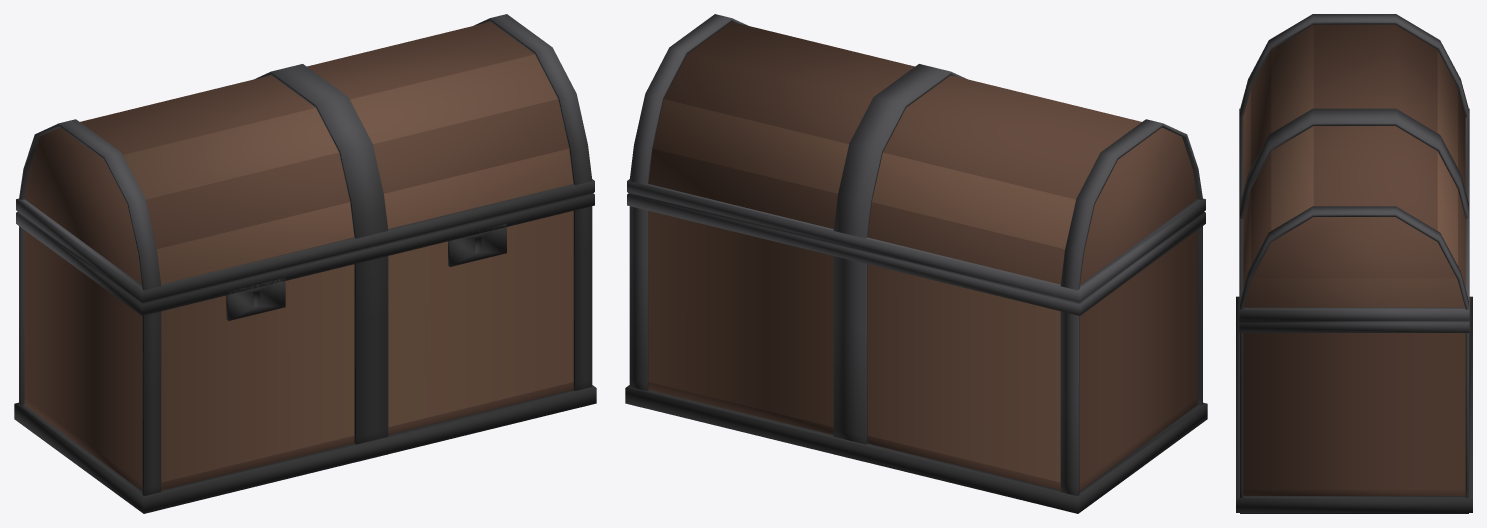
Rendered from Chest.glb.
3 views of the same model, side by side, from view 1: azimuth 30°, elevation 25°; view 2: azimuth 150°, elevation 25°; view 3: azimuth 270°, elevation 25° (orthographic). The views are drawn at different scales.
Parts seen in each view (by area): view 1: Chest; view 2: Chest; view 3: Chest.
Boxes of the visible parts, <box> form: Chest: <box>14,14,596,513</box>; Chest: <box>625,14,1207,513</box>; Chest: <box>1236,14,1472,513</box>.
Size of what is drawn, in the model's own units: 1.27 by 0.8759 by 0.6264.
1 material, 1 textured.
